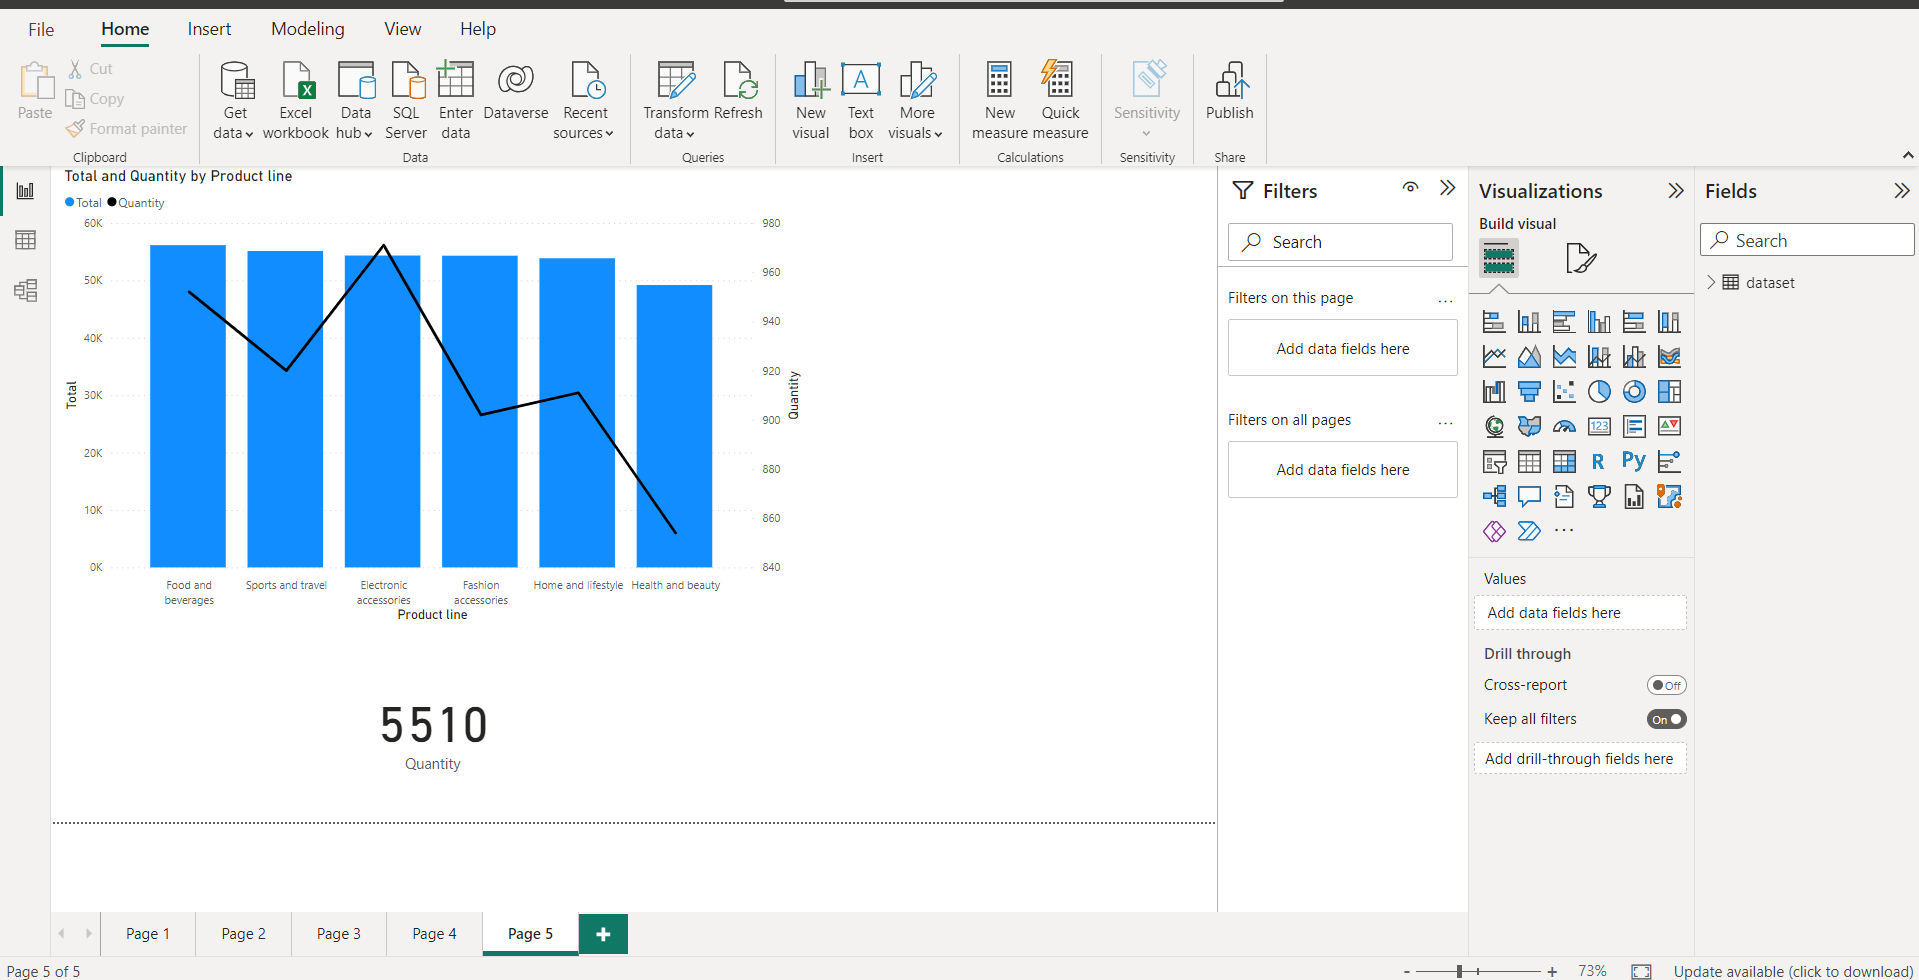

Layout of this report page (visuals, bound fields, positions):
{"tool":"powerbi","page":{"name":"Page 5","canvas":[1280,720],"ordinal":4},"visuals":[{"type":"lineStackedColumnComboChart","fields":{"Y":["Sum(dataset.Total)"],"Y2":["Sum(dataset.Quantity)"],"Category":["dataset.Product line"]},"box":[9.6,0,818.5,505.4],"z":0},{"type":"card","fields":{"Values":["Sum(dataset.Quantity)"]},"box":[10,515,819,205],"z":1000}]}

Visuals, with their boxes on the page's 1280x720 design canvas (x1, y1, x2, y2). These are canvas units, not pixel positions in the 1919x980 screenshot, which may show the page scaled, cropped or inside an application window:
lineStackedColumnComboChart - Sum(dataset.Total) x Sum(dataset.Quantity): rect(10, 0, 828, 505)
card - Sum(dataset.Quantity): rect(10, 515, 829, 720)
